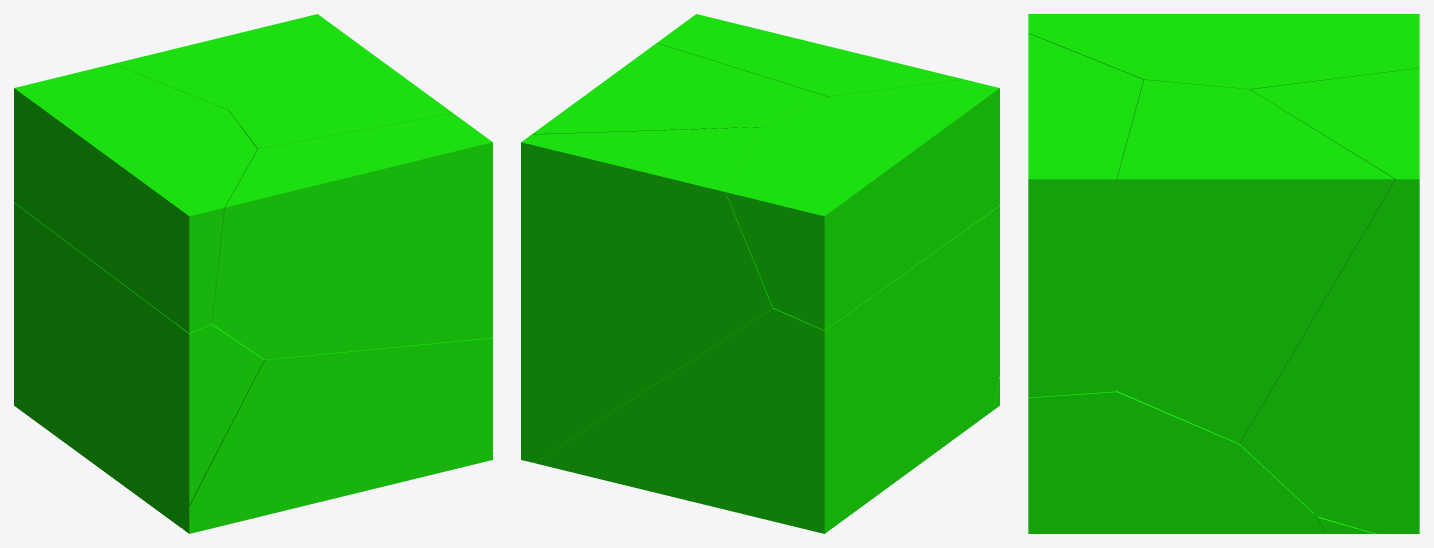
Rendered from CrushedCube.fbx.
3 renders of one model, left to right at view 1: azimuth 30°, elevation 25°; view 2: azimuth 150°, elevation 25°; view 3: azimuth 270°, elevation 25°, orthographic. The views are drawn at different scales.
Parts seen in each view (by area): view 1: Cube.006_cell.004, Cube.006_cell, Cube.006_cell.001, Cube.006_cell.003, Cube.006_cell.006, Cube.006_cell.005; view 2: Cube.006_cell, Cube.006_cell.005, Cube.006_cell.001, Cube.006_cell.006, Cube.006_cell.004; view 3: Cube.006_cell.006, Cube.006_cell.005, Cube.006_cell.004, Cube.006_cell.003, Cube.006_cell.001, Cube.006_cell.
Boxes of the visible parts, bbox=[...] form: Cube.006_cell.004: bbox=[212, 113, 492, 359]; Cube.006_cell: bbox=[14, 202, 264, 528]; Cube.006_cell.001: bbox=[14, 64, 257, 333]; Cube.006_cell.003: bbox=[183, 338, 492, 533]; Cube.006_cell.006: bbox=[228, 22, 452, 150]; Cube.006_cell.005: bbox=[113, 14, 327, 109]; Cube.006_cell: bbox=[535, 206, 999, 533]; Cube.006_cell.005: bbox=[521, 127, 772, 462]; Cube.006_cell.001: bbox=[725, 79, 999, 330]; Cube.006_cell.006: bbox=[532, 43, 826, 134]; Cube.006_cell.004: bbox=[657, 14, 963, 96]; Cube.006_cell.006: bbox=[1117, 79, 1394, 443]; Cube.006_cell.005: bbox=[1239, 68, 1419, 533]; Cube.006_cell.004: bbox=[1028, 33, 1143, 397]; Cube.006_cell.003: bbox=[1028, 389, 1325, 533]; Cube.006_cell.001: bbox=[1028, 14, 1419, 89]; Cube.006_cell: bbox=[1314, 513, 1374, 533].
Bounding box in the file's own units: 100 × 100 × 100.
